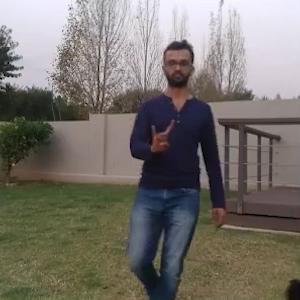takeoff-hand: (148, 112, 176, 153)
